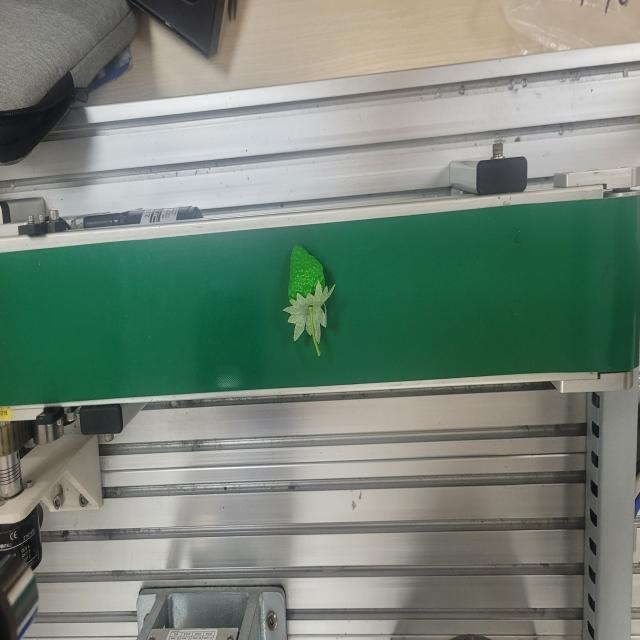Small Unripe Strawberry: (283, 240, 336, 359)
conveyor: (0, 193, 640, 409)
